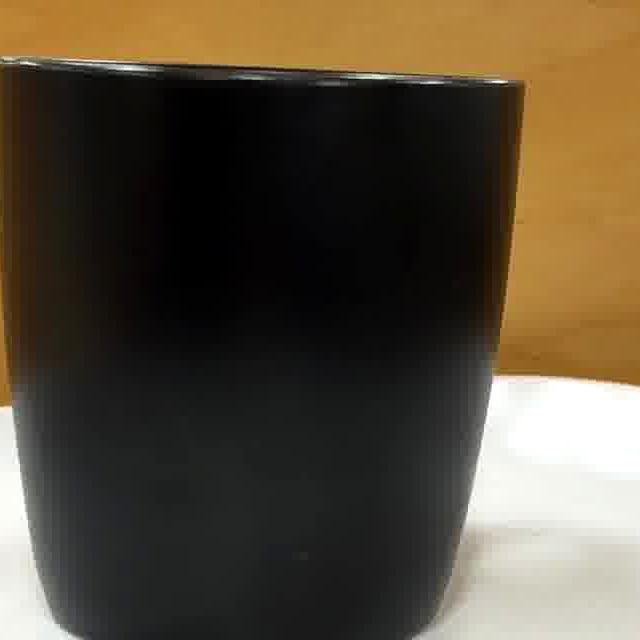cup: (2, 65, 518, 640)
